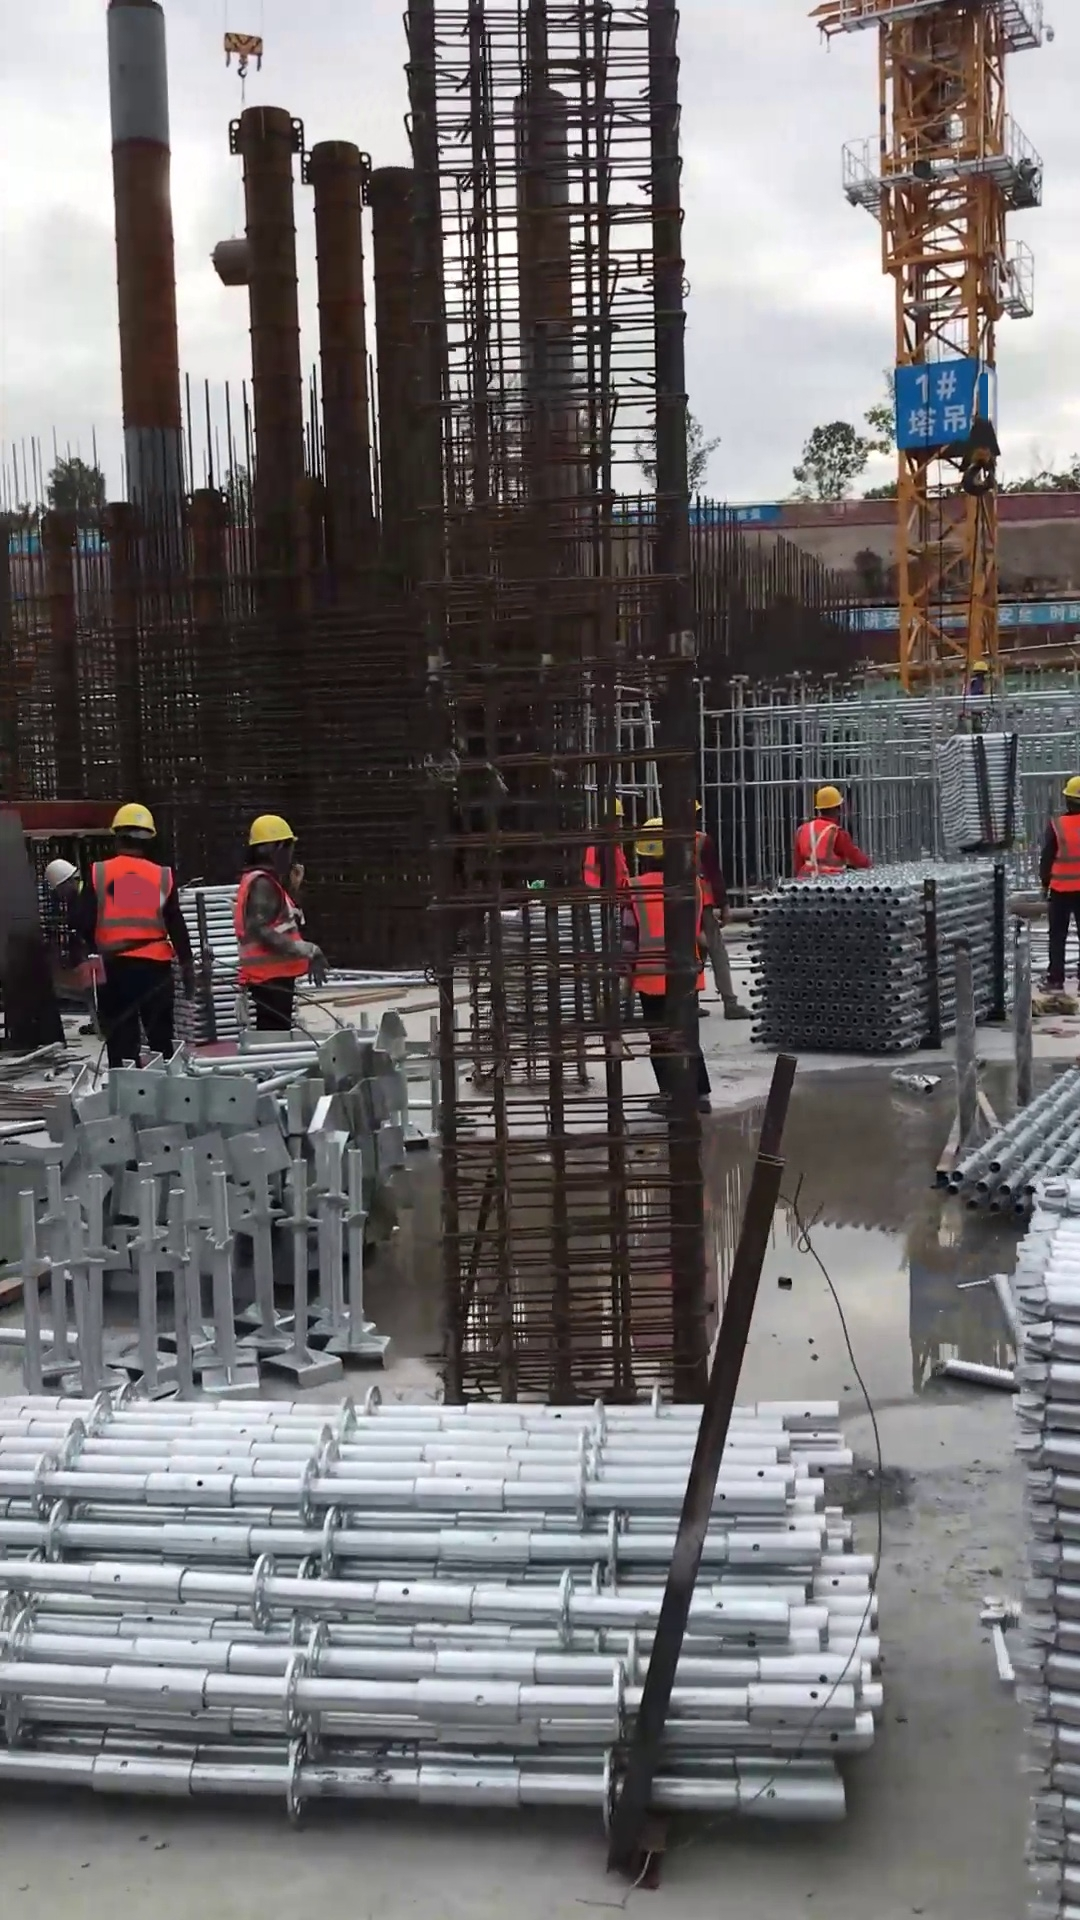helmet: (244, 813, 299, 856), (107, 802, 160, 843), (634, 817, 669, 863), (46, 855, 82, 889), (811, 783, 844, 813), (1060, 773, 1080, 807), (969, 660, 989, 674)
hook: (953, 400, 1007, 502), (222, 28, 264, 80)
person: (613, 815, 717, 1120), (90, 800, 198, 1071), (230, 812, 331, 1034), (693, 793, 756, 1024), (1036, 770, 1080, 998), (789, 782, 871, 877), (45, 848, 98, 962), (955, 657, 994, 729)
scaffold: (1, 1392, 888, 1824), (748, 861, 1017, 1053), (948, 1055, 1080, 1217), (171, 878, 259, 1042), (934, 730, 1028, 852)
slogan: (900, 363, 969, 441), (688, 503, 774, 531), (990, 602, 1080, 627), (837, 603, 903, 632)
vest: (622, 868, 707, 997), (89, 854, 178, 963), (235, 866, 311, 987), (796, 816, 848, 877), (1046, 812, 1080, 895), (581, 837, 629, 888)
